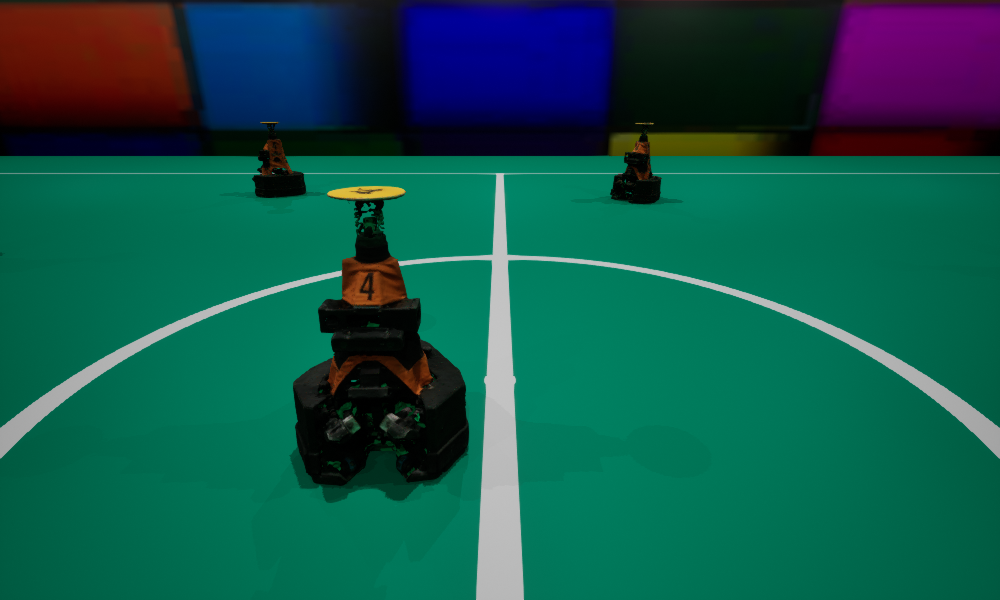o: (293, 186, 468, 485), (610, 123, 661, 202), (252, 122, 305, 197)
